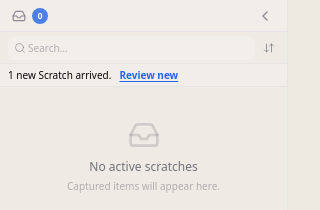
Test: ScratchPool › Review new clears vanished arrivals and falls back to Pool search focus
Click the button "Review new".
click(149, 75)  # box 119,68 -> 178,82
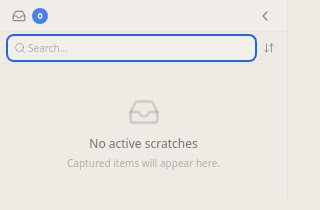
Result: the button "Review new" is gone
